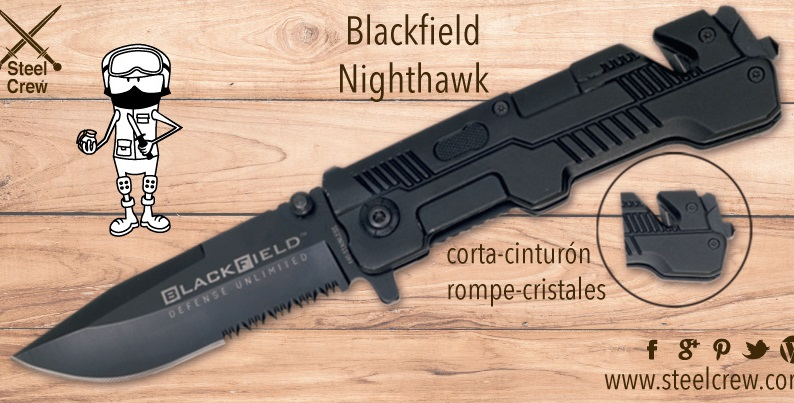knife: (1, 180, 360, 394)
